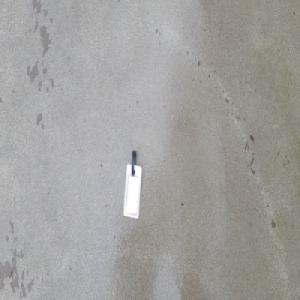LuggageTag: (122, 149, 142, 220)
